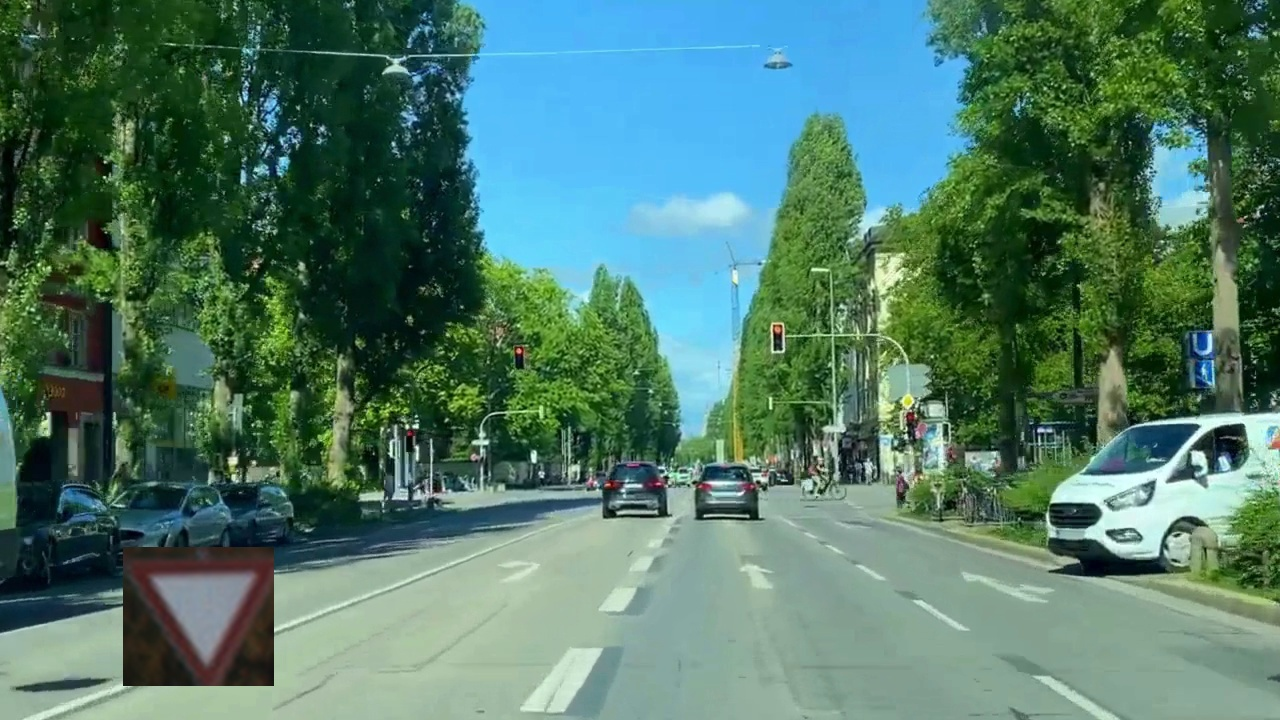Yield: (123, 547, 274, 686)
